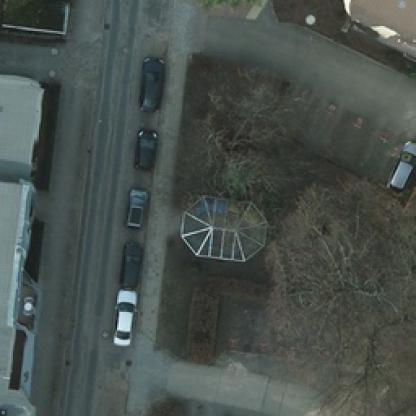car: (384, 138, 414, 190), (138, 54, 163, 107), (112, 291, 137, 343), (122, 184, 146, 228), (133, 127, 156, 169), (118, 242, 140, 283)
